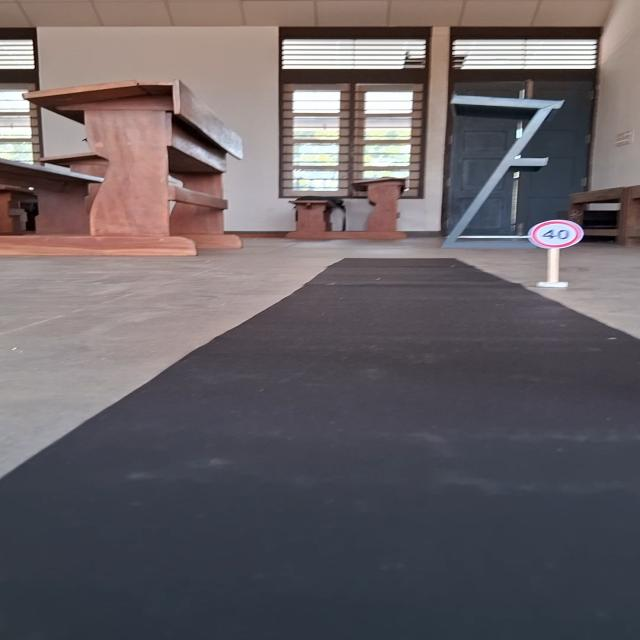Speed40: (526, 218, 587, 250)
